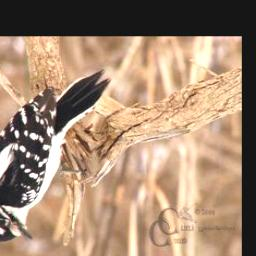Woodpecker: (0, 65, 112, 243)
